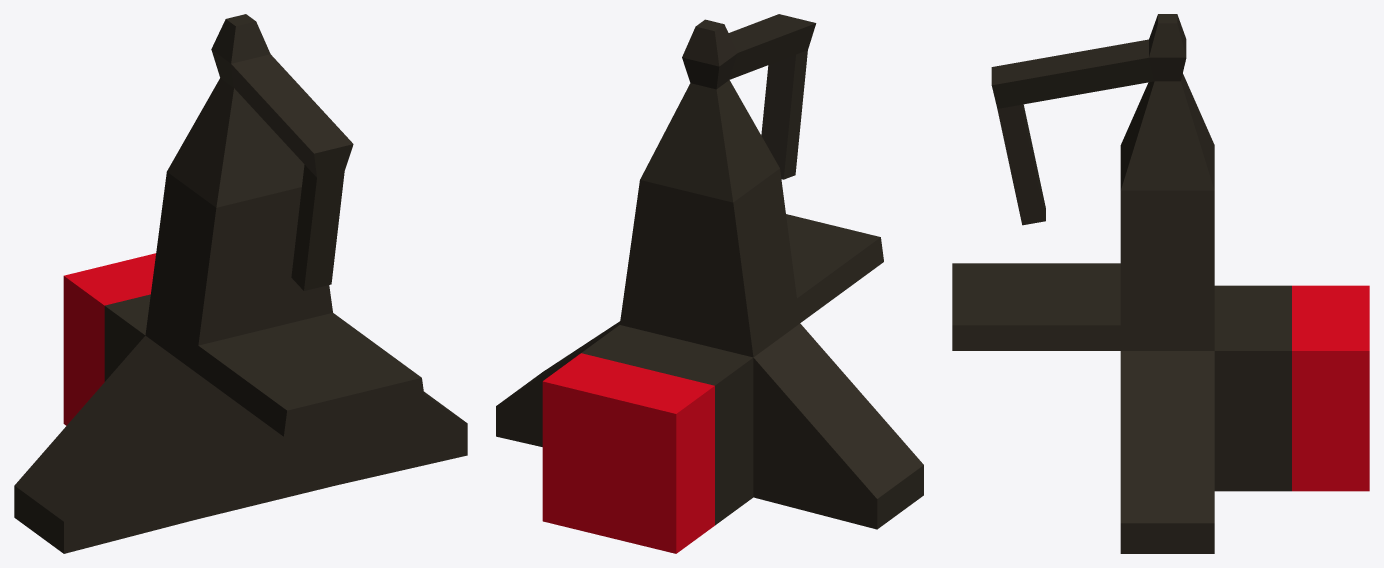
File: machine.fbx
The picture shows the model from 3 angles, left to right: view 1: azimuth 30°, elevation 25°; view 2: azimuth 150°, elevation 25°; view 3: azimuth 270°, elevation 25°; orthographic projection. The views are drawn at different scales.
Parts seen in each view (by area): view 1: Cube; view 2: Cube; view 3: Cube.
Part boxes in pixels (box(x1,y1,x2,y2)): Cube: box(14, 14, 467, 553); Cube: box(496, 14, 923, 553); Cube: box(952, 14, 1369, 553).
Size of the model in its own units: 2.08 by 2.3 by 1.97.
